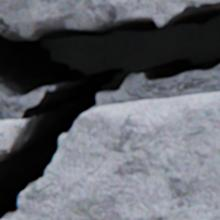broken_brick: (2, 92, 219, 219), (0, 0, 219, 36), (0, 119, 29, 156)
crack: (0, 2, 219, 219)
